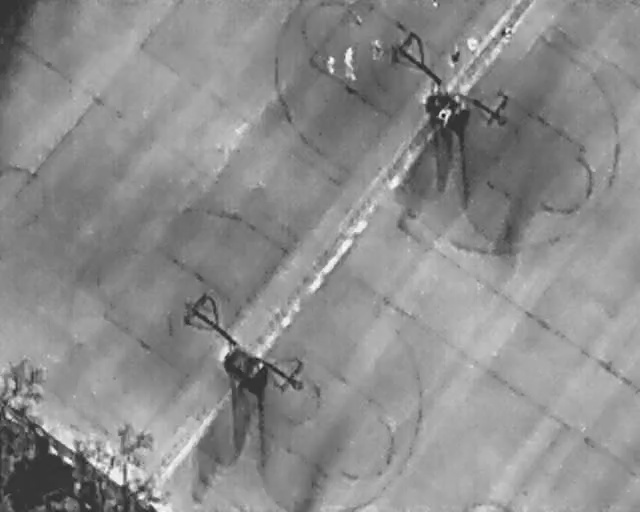Person: (446, 44, 464, 69), (435, 107, 454, 129), (344, 45, 355, 69), (371, 40, 384, 60), (325, 52, 336, 74), (501, 26, 514, 43), (467, 38, 479, 52)
